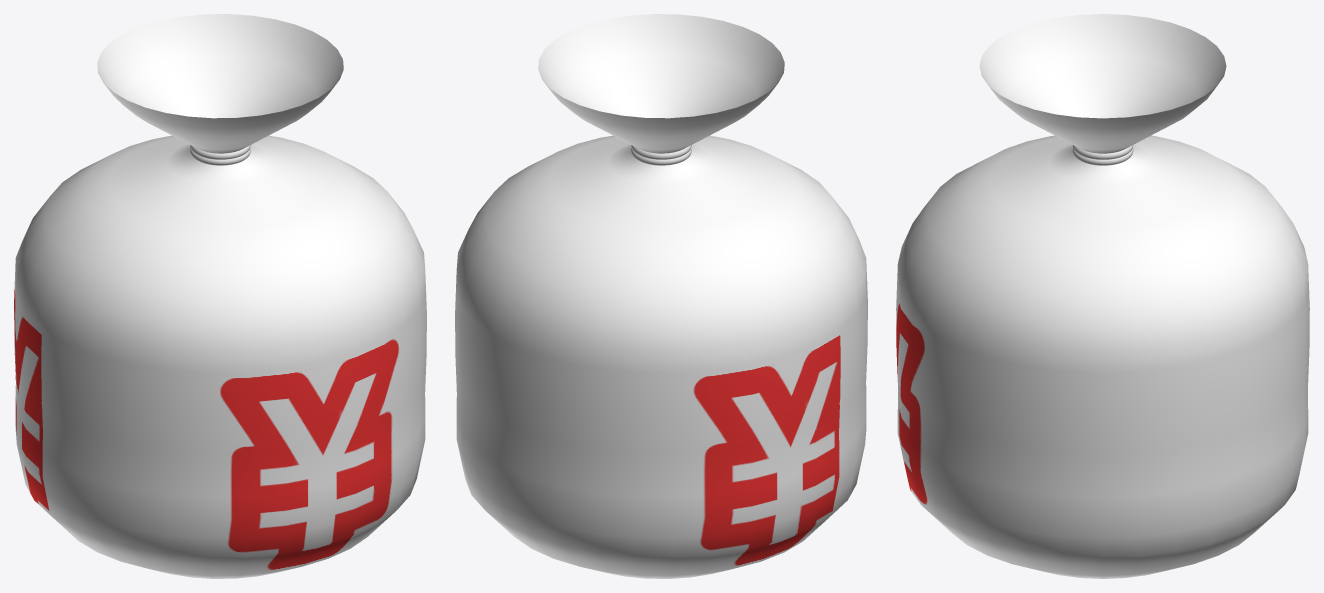
Rendered from YenBag.fbx.
The picture shows the model from 3 angles, left to right: view 1: azimuth 30°, elevation 25°; view 2: azimuth 150°, elevation 25°; view 3: azimuth 270°, elevation 25°; orthographic projection.
Visible parts, largest first — view 1: Bag, tie; view 2: Bag, tie; view 3: Bag, tie.
Boxes of the visible parts, bbox=[...] form: Bag: bbox=[14, 14, 426, 578]; tie: bbox=[190, 145, 250, 165]; Bag: bbox=[455, 14, 867, 578]; tie: bbox=[631, 145, 691, 165]; Bag: bbox=[896, 14, 1309, 578]; tie: bbox=[1072, 145, 1133, 165].
Size of the model in its own units: 204 by 259 by 204.
Materials: 1 (1 with a texture image).
